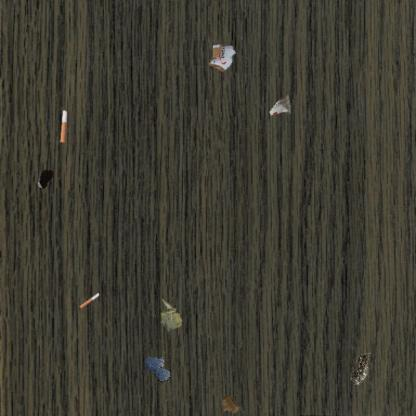dirty: (159, 298, 184, 334), (208, 42, 236, 74), (349, 351, 373, 387), (268, 94, 292, 117), (221, 392, 242, 415), (58, 110, 70, 145), (78, 293, 100, 309)
liquid: (144, 356, 172, 384), (36, 168, 54, 190)
